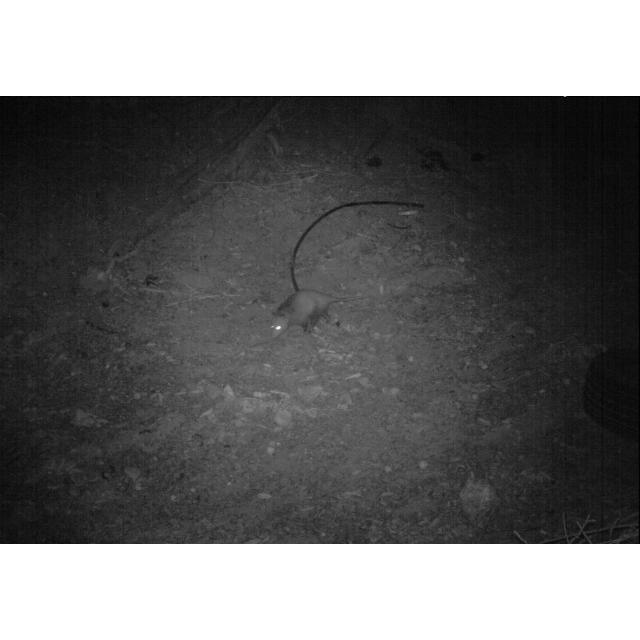animals: (266, 286, 346, 342)
